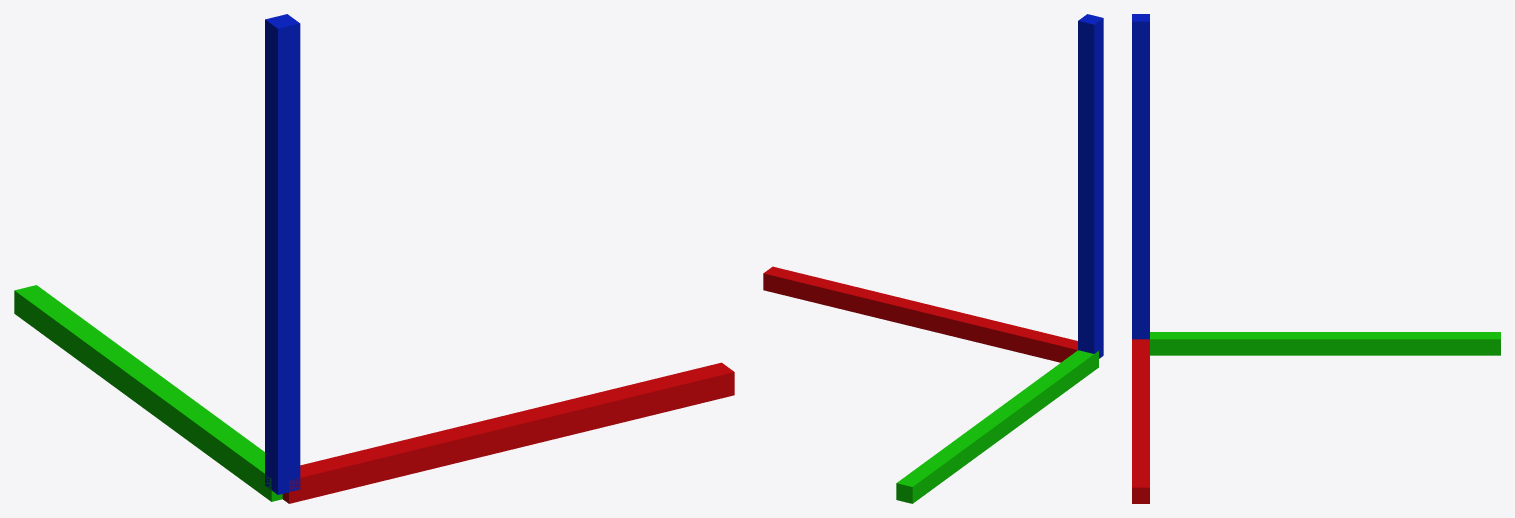
Rendered from axies.fbx.
3 views of the same model, side by side, from view 1: azimuth 30°, elevation 25°; view 2: azimuth 150°, elevation 25°; view 3: azimuth 270°, elevation 25° (orthographic). The views are drawn at different scales.
Visible parts, largest first — view 1: Cube.002, Cube.001, Cube; view 2: Cube.002, Cube.001, Cube; view 3: Cube, Cube.002, Cube.001.
Boxes of the visible parts, box(x1,y1,x2,y2) form: Cube.002: box(265, 14, 300, 494); Cube.001: box(282, 362, 734, 503); Cube: box(14, 285, 282, 501); Cube.002: box(1078, 14, 1103, 358); Cube.001: box(763, 266, 1077, 362); Cube: box(896, 350, 1098, 503); Cube: box(1150, 332, 1500, 355); Cube.002: box(1132, 14, 1149, 339); Cube.001: box(1132, 339, 1149, 503).
Size of the model in its own units: 410 by 410 by 410.
